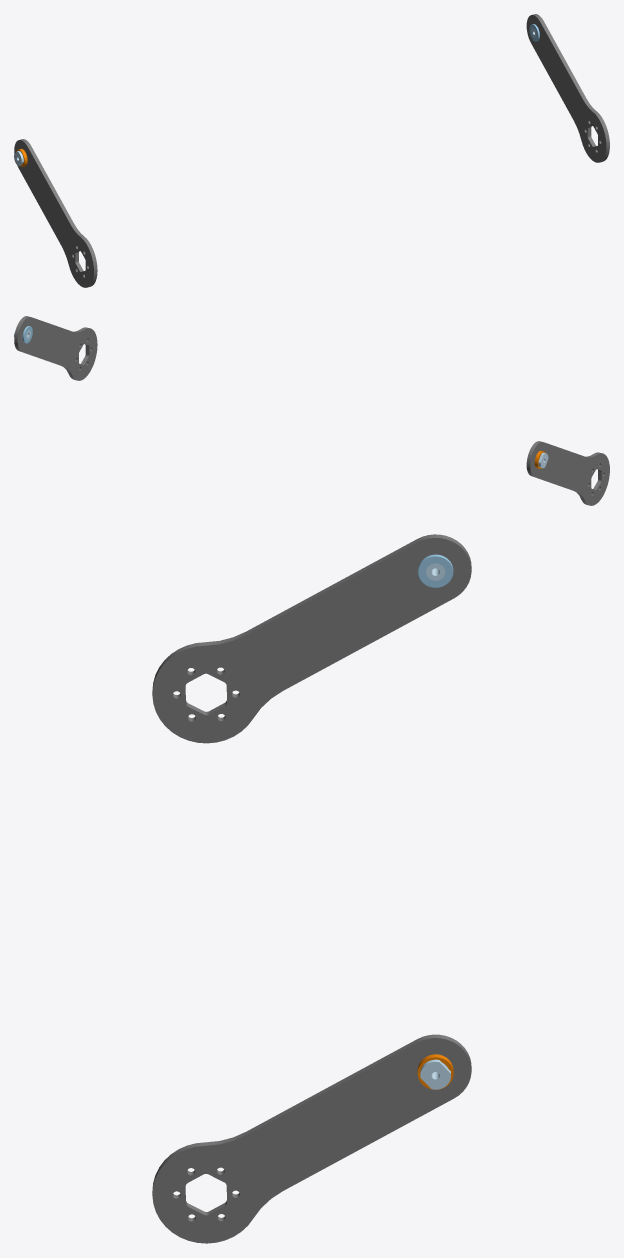
The picture shows the model from 3 angles, top to bottom: view 1: azimuth 30°, elevation 25°; view 2: azimuth 150°, elevation 25°; view 3: azimuth 270°, elevation 25°; orthographic projection. The views are drawn at different scales.
Parts seen in each view (by area): view 1: Link1 (×2); view 2: Link1 (×2); view 3: Link1 (×2).
Boxes of the visible parts, bbox=[...] form: Link1 (×2): bbox=[14, 14, 609, 287]; Link1 (×2): bbox=[14, 316, 609, 505]; Link1 (×2): bbox=[152, 534, 471, 1243].
Bounding box in the file's own units: 0.7517 × 0.1402 × 0.1973.
